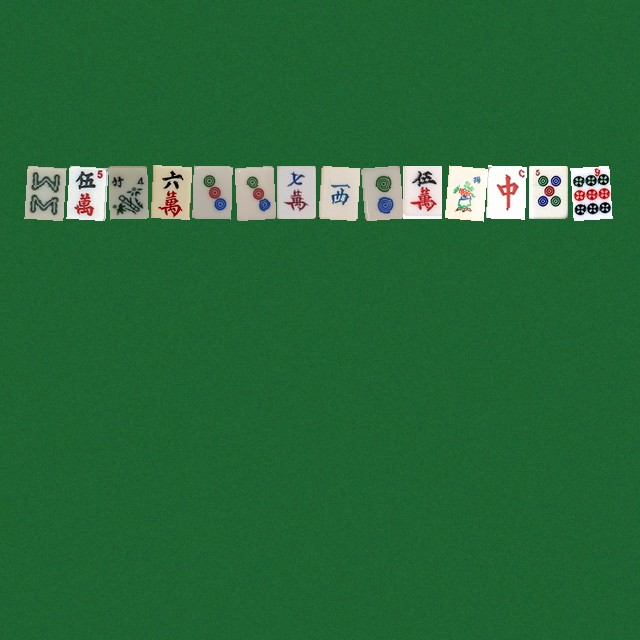tile: (24, 165, 63, 218), (66, 165, 105, 218), (108, 165, 147, 218), (150, 165, 189, 218), (192, 165, 231, 218), (234, 165, 273, 218), (276, 165, 315, 218), (318, 165, 357, 218), (360, 165, 399, 218), (402, 165, 441, 218), (444, 165, 483, 218), (486, 165, 525, 218), (528, 165, 567, 218), (570, 165, 609, 218)
